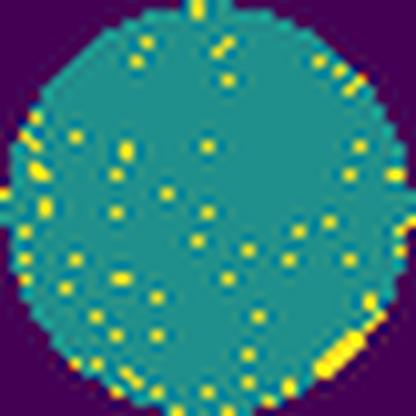Edge-Loc: (312, 306, 386, 376)
